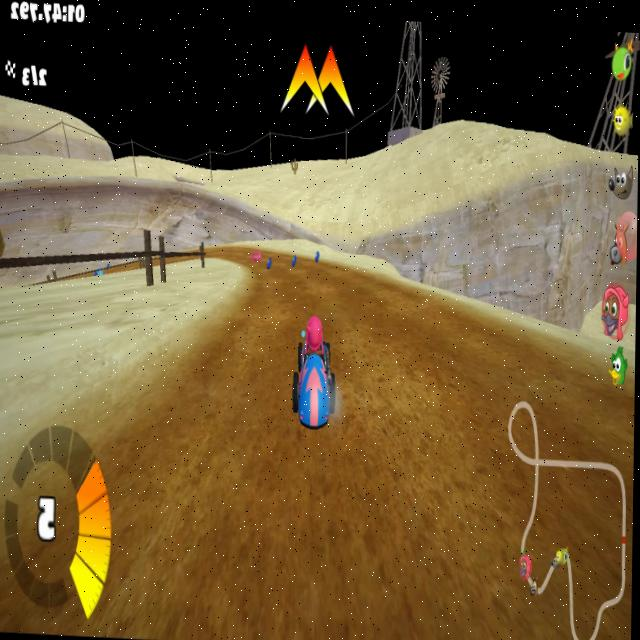nitro: (289, 250, 300, 269), (264, 256, 275, 273), (312, 246, 321, 262)
player_kart: (292, 313, 338, 437)
